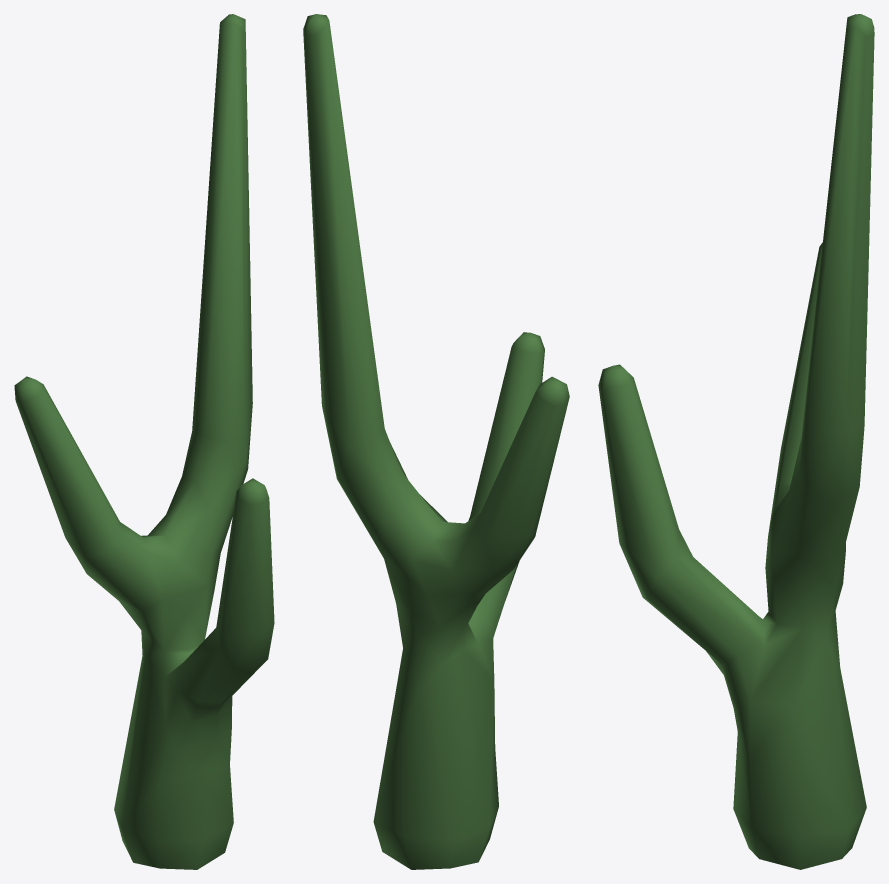
The model's file is Cacto1.fbx.
3 renders of one model, left to right at view 1: azimuth 30°, elevation 25°; view 2: azimuth 150°, elevation 25°; view 3: azimuth 270°, elevation 25°, orthographic. The views are drawn at different scales.
Parts seen in each view (by area): view 1: Cacto1; view 2: Cacto1; view 3: Cacto1.
Boxes of the visible parts, box(x1,y1,x2,y2) form: Cacto1: box(14, 14, 274, 869); Cacto1: box(303, 14, 569, 869); Cacto1: box(598, 14, 874, 869).
Size of the model in its own units: 129 by 412 by 117.
